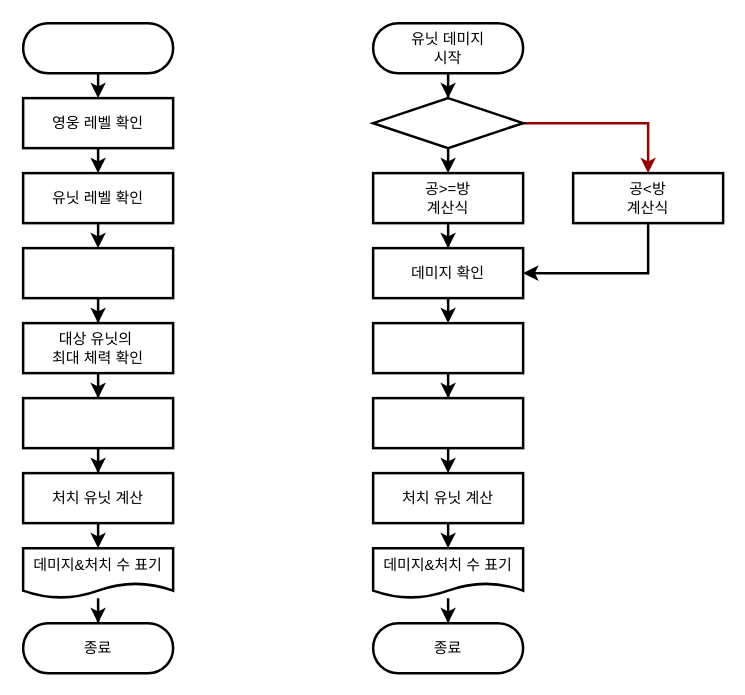
The diagram is 745 pixels wide and 695 high, and some of its shapes have lost their labels. The shapes that lost their labels are listed below. From the top down, each one's centre as x and y in pixels, then its label:
At pixel 97 47: "영웅 데미지 시작".
At pixel 447 122: "공>=방 비교".
At pixel 97 272: "영웅 피해량 배율 확인".
At pixel 447 347: "유닛 숫자 확인".
At pixel 97 422: "영웅 데미지 계산".
At pixel 447 422: "유닛 데미지 계산".
